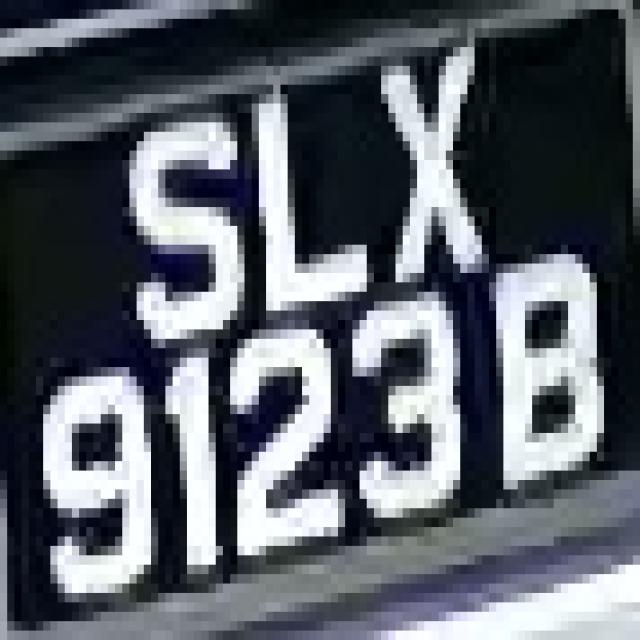1: (144, 320, 230, 621)
2: (208, 292, 359, 584)
3: (331, 273, 482, 508)
9: (22, 311, 158, 621)
B: (482, 207, 618, 527)
L: (252, 113, 374, 358)
S: (108, 94, 237, 348)
X: (367, 19, 518, 292)
